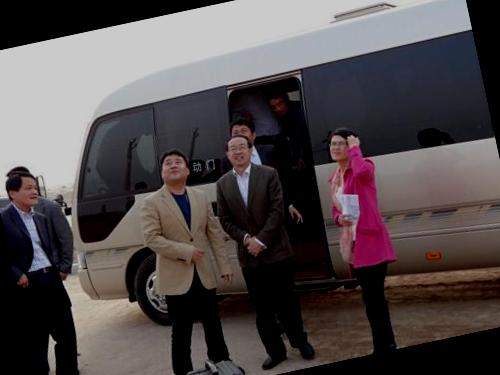no_helmet: (1, 162, 44, 214), (150, 143, 195, 190), (260, 80, 300, 117), (323, 122, 358, 164), (222, 130, 256, 169), (223, 113, 258, 147)
